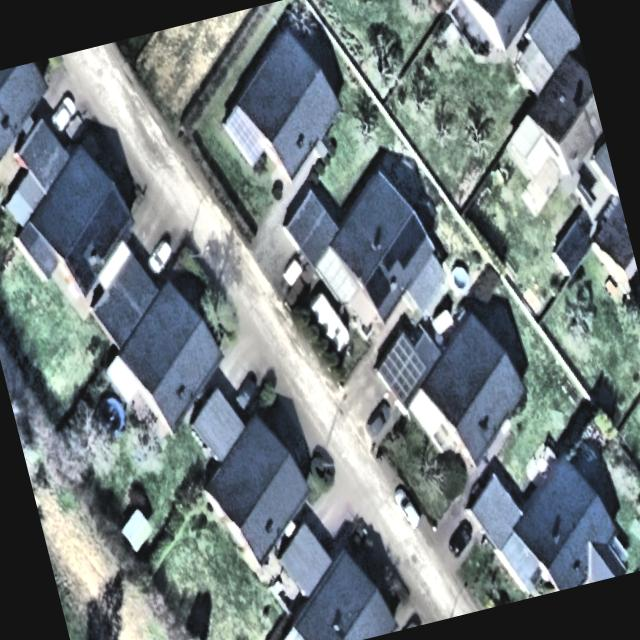roof_pv: (370, 331, 430, 401), (81, 189, 138, 258), (386, 210, 434, 272), (62, 235, 101, 298), (359, 262, 396, 312), (382, 244, 401, 274)
